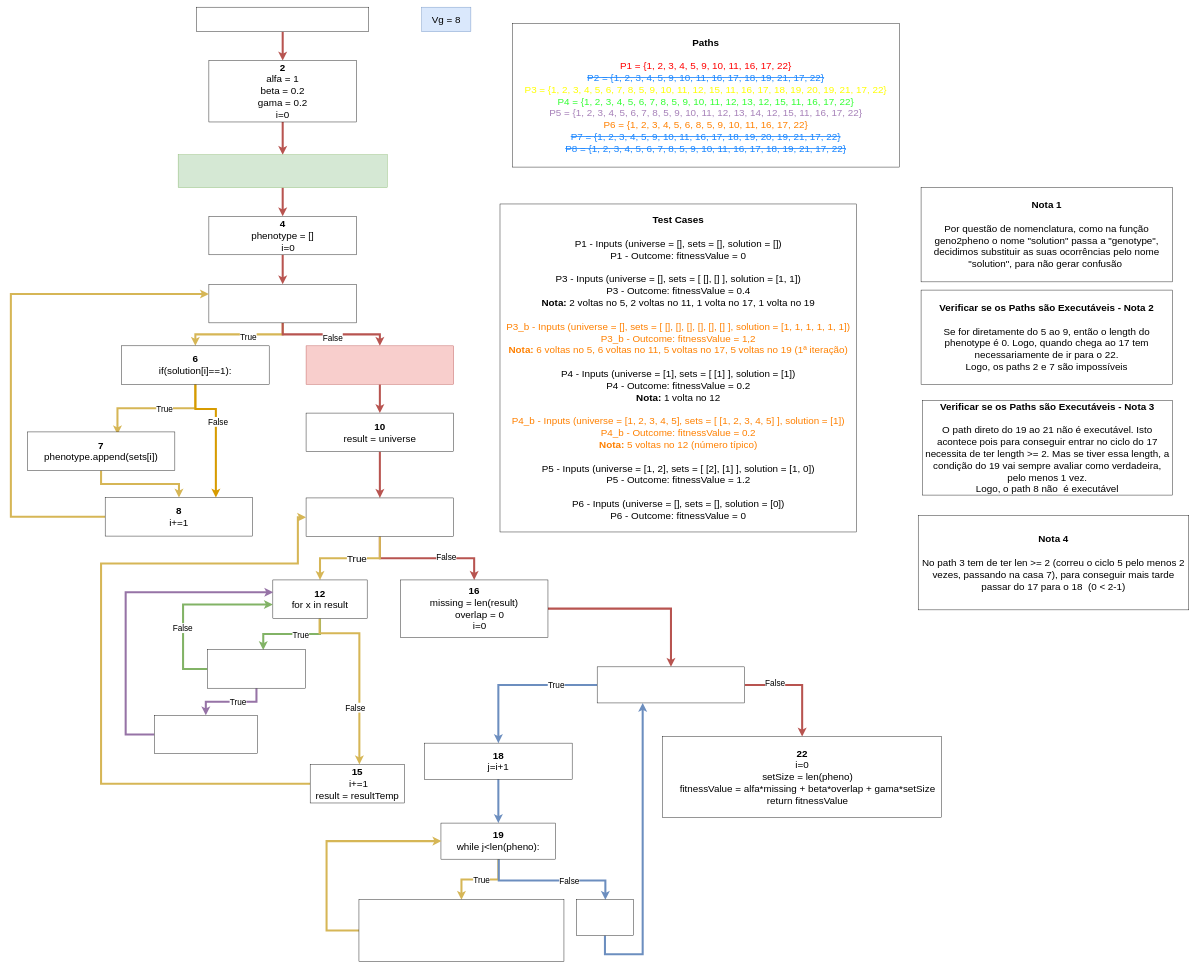
This 1196x968 diagram has some shape labels left out. Here are the shapes that lost their labels. From the top down, the centre of each, then its label:
the point at 282,19: 1 - def fitness( universe,sets,solution ):
the point at 282,171: 3 - phenotype = geno2pheno(solution,sets)
the point at 282,303: 5 while i<len(solution):
the point at 380,364: 9 return phenotype
the point at 380,517: 11 while i<len(pheno):
the point at 256,668: 13 if x not in pheno[i]
the point at 671,684: 17 while i<len(pheno)-1:
the point at 205,734: 14 resultTemp.append(x)
the point at 461,930: 20 overlap += len(set(pheno[i]) & set(pheno[j])) j+=1
the point at 605,917: 21 i+=1
